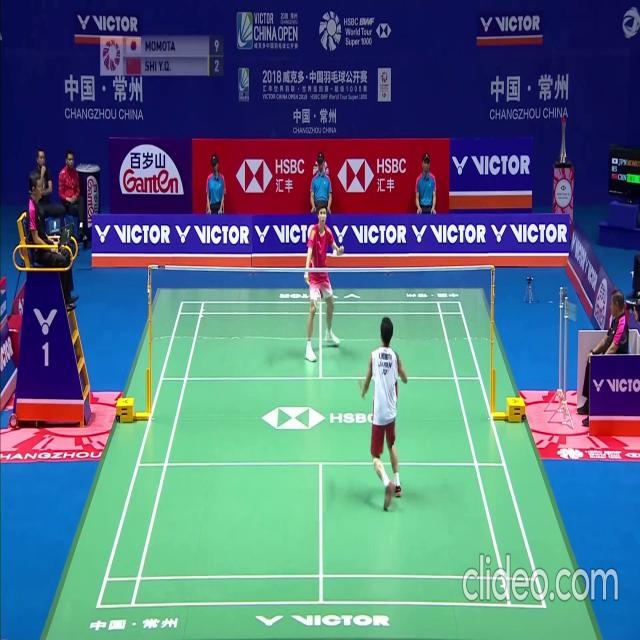Shuttlecock: (332, 249, 337, 257)
